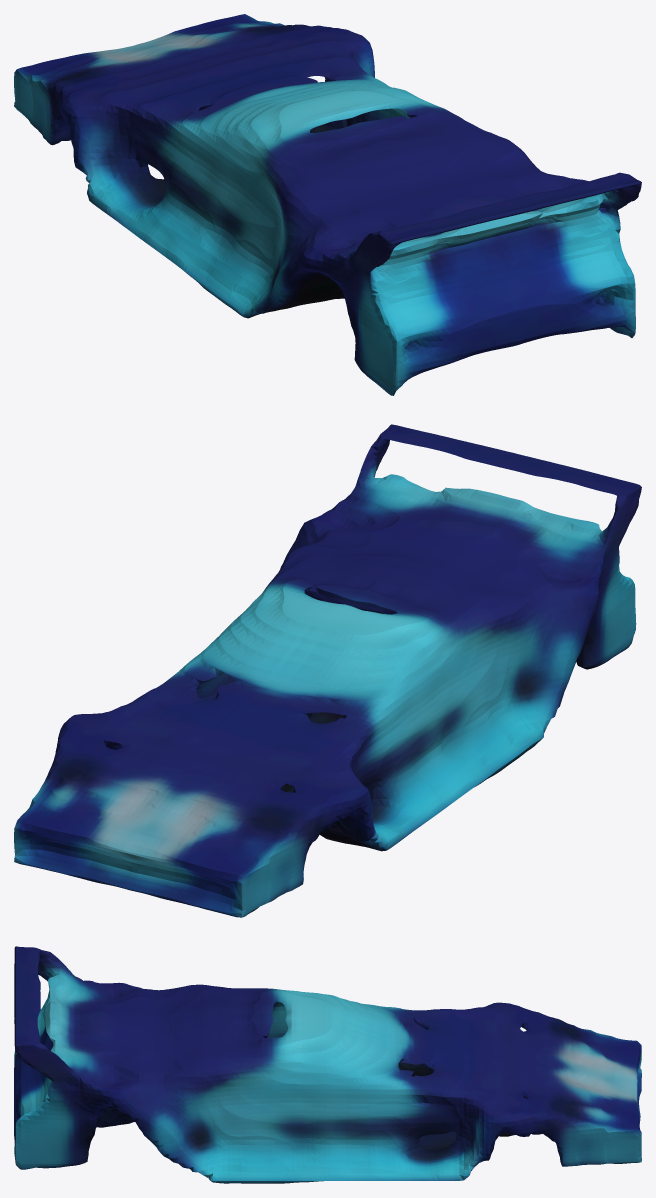
The picture shows the model from 3 angles, top to bottom: view 1: azimuth 30°, elevation 25°; view 2: azimuth 150°, elevation 25°; view 3: azimuth 270°, elevation 25°; orthographic projection. The views are drawn at different scales.
Visible parts, largest first — view 1: tmp9rd1ap42.ply; view 2: tmp9rd1ap42.ply; view 3: tmp9rd1ap42.ply.
Part boxes in pixels (x1,y1,x2,y2): tmp9rd1ap42.ply: (14, 14, 641, 395); tmp9rd1ap42.ply: (14, 424, 641, 917); tmp9rd1ap42.ply: (14, 946, 641, 1183).
Bounding box in the file's own units: 0.8853 × 0.4586 × 1.98.
